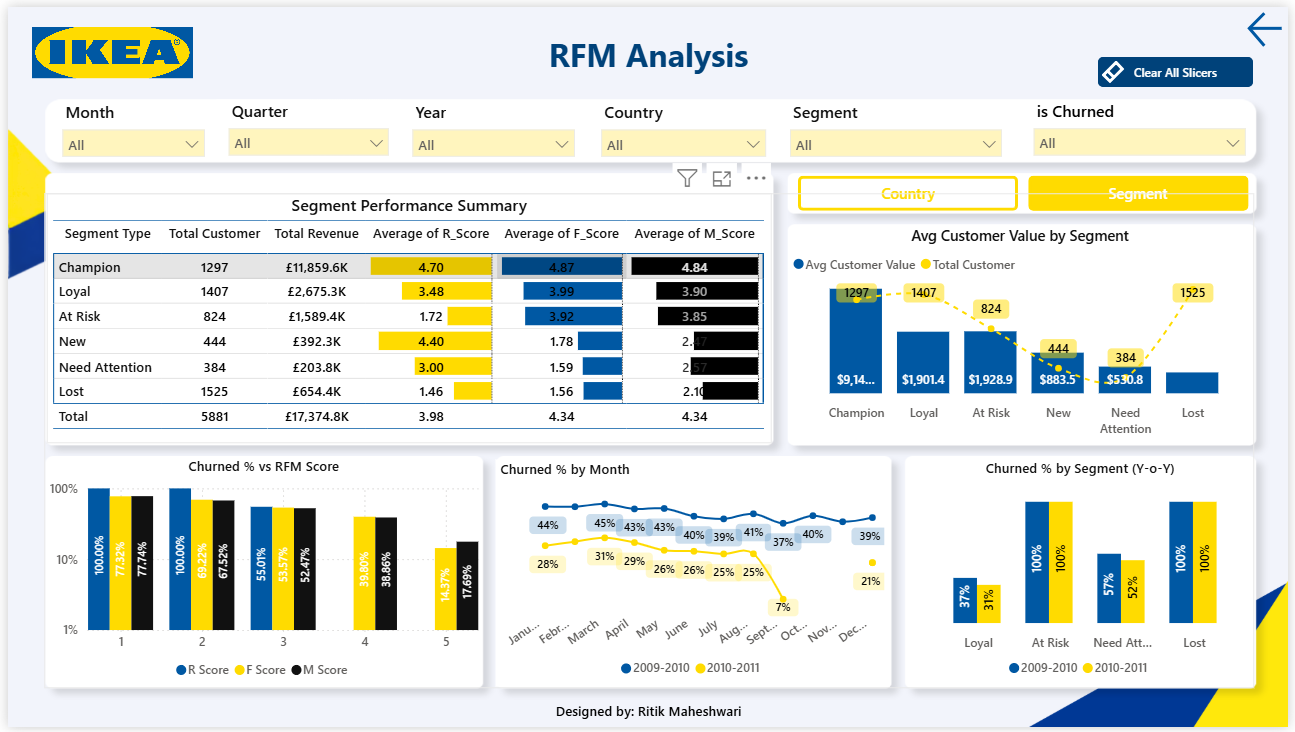

The dashboard page shown, as its layout file describes it:
{"tool":"powerbi","page":{"name":"RFM Analysis","canvas":[1280,720],"ordinal":1},"visuals":[{"type":"slicer","fields":{"Values":["Sheet1.InvoiceDate.Variation.Date Hierarchy.Month"]},"box":[42.5,93.8,166.2,60],"z":0},{"type":"lineClusteredColumnComboChart","title":"Churned % vs RFM Score in United Kingdom","fields":{"Category":["UK RFM Table.Score"],"Series":["RFM_order.Score Type"],"Y":["UK RFM Table.Churned_Rate_UK"]},"box":[894.2,452.1,351.7,224.2],"z":0,"group":"g1"},{"type":"slicer","fields":{"Values":["Sheet1.InvoiceDate.Variation.Date Hierarchy.Year"]},"box":[392.5,93.8,186.2,60],"z":1000},{"type":"columnChart","title":"Average Customer Value by Country","fields":{"Y":["Sheet1.Avg Customer Value"],"Category":["Sheet1.Country"],"Series":["Sheet1.Country"]},"box":[782.2,221.7,462.8,216.1],"z":1000,"group":"g1"},{"type":"lineStackedColumnComboChart","title":"Churned Rate by Country","fields":{"Category":["SortTableCountrybyChurn.Status"],"Y":["Avg(Country_Summary1.Churned Rate)"],"Y2":["CountNonNull(Country_Summary1.Country)","Sum(Country_Summary1.Customer)"]},"box":[34.9,452.1,436.9,227.7],"z":2000,"group":"g1"},{"type":"slicer","fields":{"Values":["Sheet1.InvoiceDate.Variation.Date Hierarchy.Quarter"]},"box":[208.6,93,184.3,60],"z":3000},{"type":"lineChart","title":"Customer Count in United Kingdom by Month (Y-O-Y)","fields":{"Category":["UK_Table.InvoiceDate.Variation.Date Hierarchy.Month"],"Series":["UK_Table.SourceSheet"],"Y":["UK_Table.TotalCustomer"]},"box":[487,452.1,390.4,226.6],"z":3000,"group":"g1"},{"type":"slicer","fields":{"Values":["Sheet1.Country"]},"box":[581.2,93.8,188.8,60],"z":4000},{"type":"tableEx","title":"Segment Performance Summary by Countries","fields":{"Values":["Sheet1.Country","Sheet1.Total Customer","Sheet1.Total Revenue","Avg(Sheet1.R_Score)","Avg(Sheet1.F_Score)","Avg(Sheet1.M_Score)"]},"box":[37.4,167.9,742.5,274.2],"z":4000,"group":"g1"},{"type":"slicer","fields":{"Values":["Sheet1.Customer_Value"]},"box":[770,93.8,236,60],"z":5000},{"type":"slicer","fields":{"Values":["Sheet1.isChurned"]},"box":[1013.8,93,236,60],"z":6000},{"type":"image","box":[0,20,208.6,51.4],"z":7000},{"type":"textbox","box":[464.6,20.8,351.3,59.2],"z":8000},{"type":"bookmarkNavigator","box":[790,169,450,35],"z":9000},{"type":"textbox","box":[535.6,690,208.8,30],"z":10000},{"type":"actionButton","box":[1235,0,45,45],"z":11000},{"type":"actionButton","box":[1090,50,155,30],"z":12000},{"type":"group","id":"g1","title":"Country","box":[34.9,167.9,1211,511.9],"z":13000}]}

Visuals, with their boxes in screenshot pixels (x1, y1, x2, y2), scaled from the page's 1280x720 canvas onto the 1295x732 screenshot:
slicer - Sheet1.InvoiceDate.Variation.Date Hierarchy.Month: (left=43, top=95, right=211, bottom=156)
"Churned % vs RFM Score in United Kingdom" lineClusteredColumnComboChart: (left=905, top=460, right=1261, bottom=688)
slicer - Sheet1.InvoiceDate.Variation.Date Hierarchy.Year: (left=397, top=95, right=585, bottom=156)
"Average Customer Value by Country" columnChart: (left=791, top=225, right=1260, bottom=445)
"Churned Rate by Country" lineStackedColumnComboChart: (left=35, top=460, right=477, bottom=691)
slicer - Sheet1.InvoiceDate.Variation.Date Hierarchy.Quarter: (left=211, top=95, right=398, bottom=156)
"Customer Count in United Kingdom by Month (Y-O-Y)" lineChart: (left=493, top=460, right=888, bottom=690)
slicer - Sheet1.Country: (left=588, top=95, right=779, bottom=156)
"Segment Performance Summary by Countries" tableEx: (left=38, top=171, right=789, bottom=449)
slicer - Sheet1.Customer_Value: (left=779, top=95, right=1018, bottom=156)
slicer - Sheet1.isChurned: (left=1026, top=95, right=1264, bottom=156)
image: (left=0, top=20, right=211, bottom=73)
textbox: (left=470, top=21, right=825, bottom=81)
bookmarkNavigator: (left=799, top=172, right=1255, bottom=207)
textbox: (left=542, top=702, right=753, bottom=731)
actionButton: (left=1249, top=0, right=1294, bottom=46)
actionButton: (left=1103, top=51, right=1260, bottom=81)
"Country" group: (left=35, top=171, right=1261, bottom=691)
